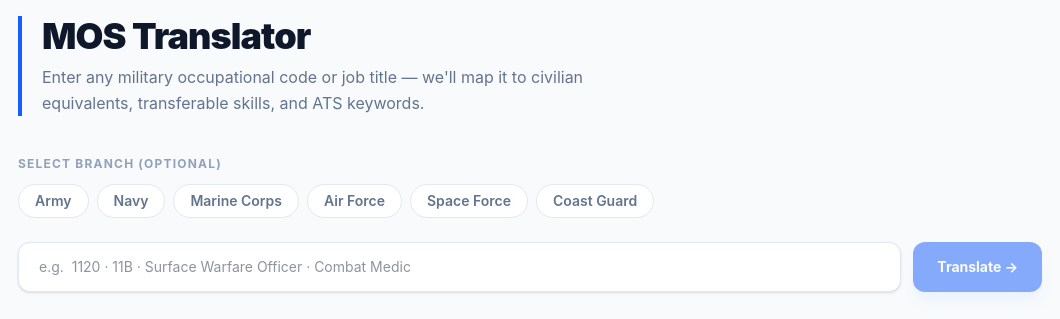
TranslatorPage › enables the Translate button once the user types a query
Expected: the button "Translate →" is disabled, left=913, top=242, right=1042, bottom=292
Type "11B" into the field. click: point(460, 267)
box: left=18, top=242, right=901, bottom=292
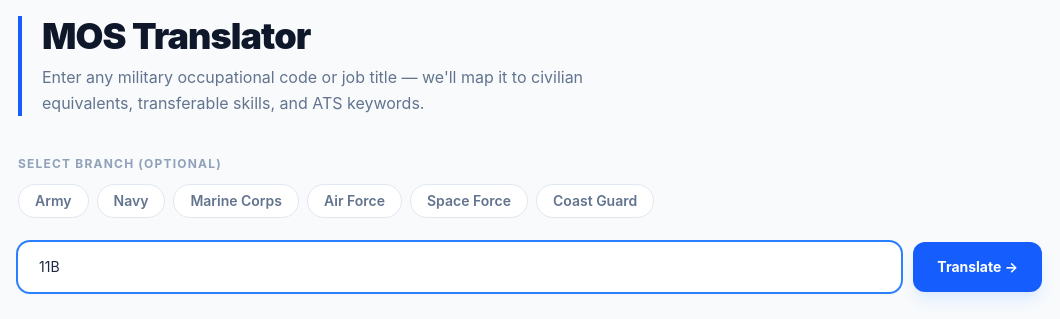
Result: the button "Translate →" is enabled at left=913, top=242, right=1042, bottom=292
